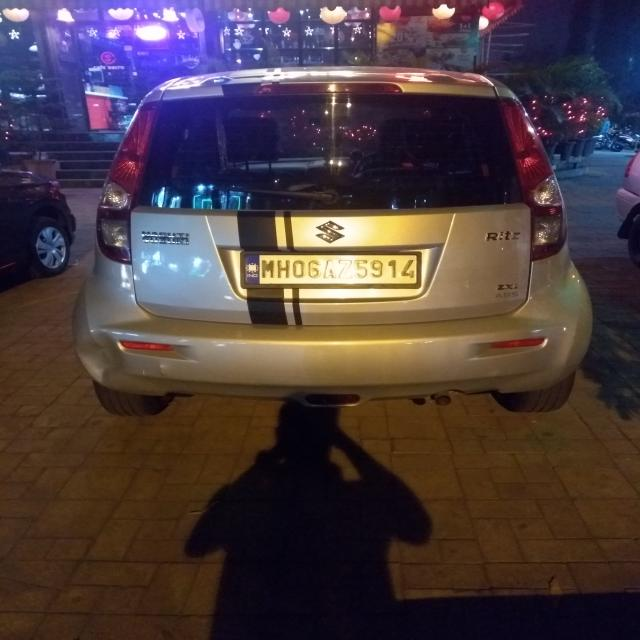Number-Plate: (240, 253, 416, 285)
